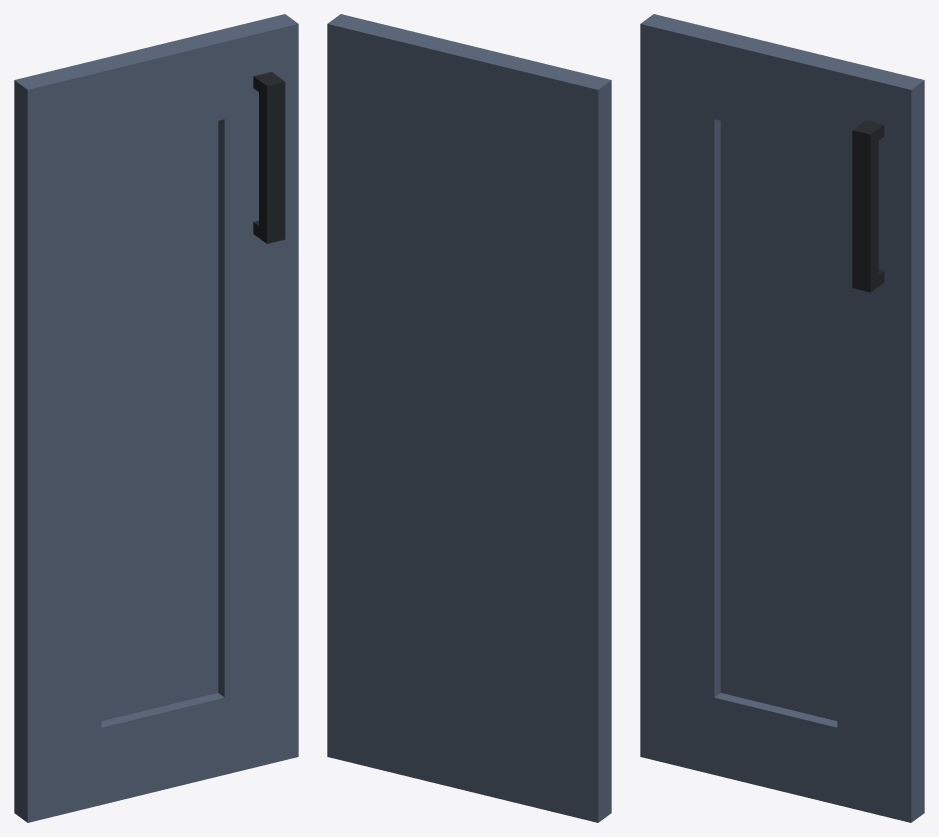
The model's file is Door2_C4_04.fbx.
3 renders of one model, left to right at view 1: azimuth 30°, elevation 25°; view 2: azimuth 150°, elevation 25°; view 3: azimuth 330°, elevation 25°, orthographic.
Visible parts, largest first — view 1: Door2_C4_04; view 2: Door2_C4_04; view 3: Door2_C4_04.
Boxes of the visible parts, left/top/right/bottom form: Door2_C4_04: left=14, top=14, right=298, bottom=822; Door2_C4_04: left=327, top=14, right=611, bottom=822; Door2_C4_04: left=640, top=14, right=924, bottom=822.
Size of the model in its own units: 29 by 75 by 5.03.
